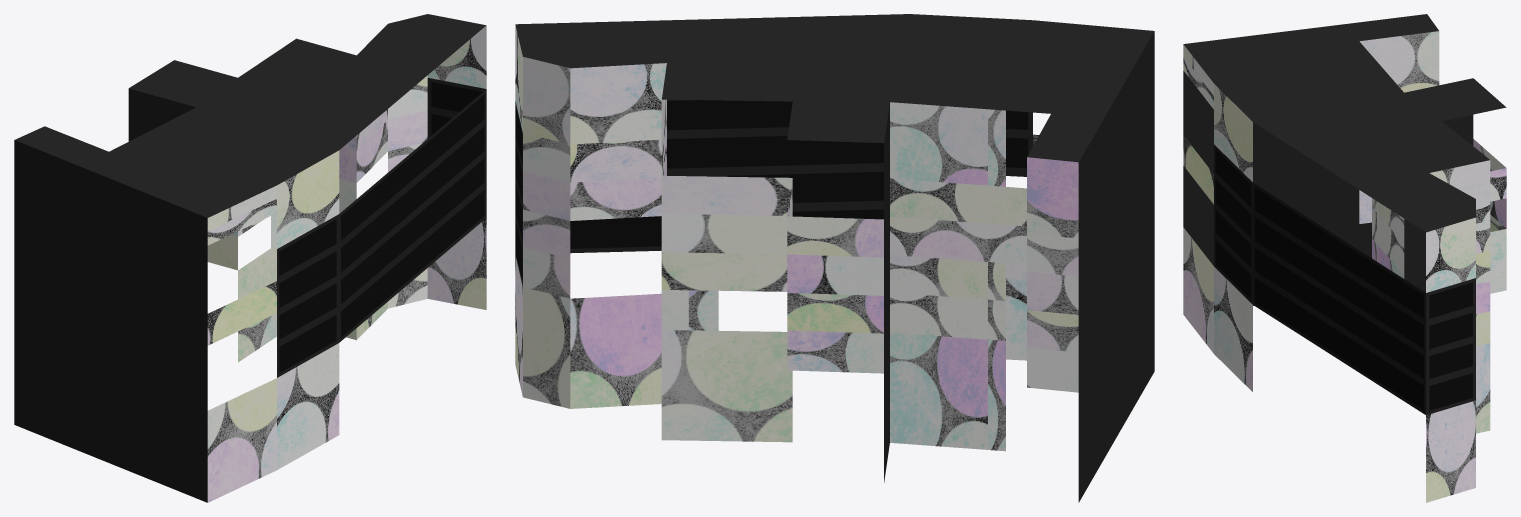
Rendered from element-314-Burner Security Laboratories - Research.fbx.
3 renders of one model, left to right at view 1: azimuth 30°, elevation 25°; view 2: azimuth 150°, elevation 25°; view 3: azimuth 270°, elevation 25°, orthographic. The views are drawn at different scales.
Parts seen in each view (by area): view 1: element.314- [Burner Security Laboratories - Research]; view 2: element.314- [Burner Security Laboratories - Research]; view 3: element.314- [Burner Security Laboratories - Research].
Part boxes in pixels (left/top/right/bottom): element.314- [Burner Security Laboratories - Research]: left=14, top=14, right=486, bottom=502; element.314- [Burner Security Laboratories - Research]: left=515, top=14, right=1154, bottom=502; element.314- [Burner Security Laboratories - Research]: left=1183, top=14, right=1506, bottom=502.
Size of the model in its own units: 2722 by 1571 by 1702.
